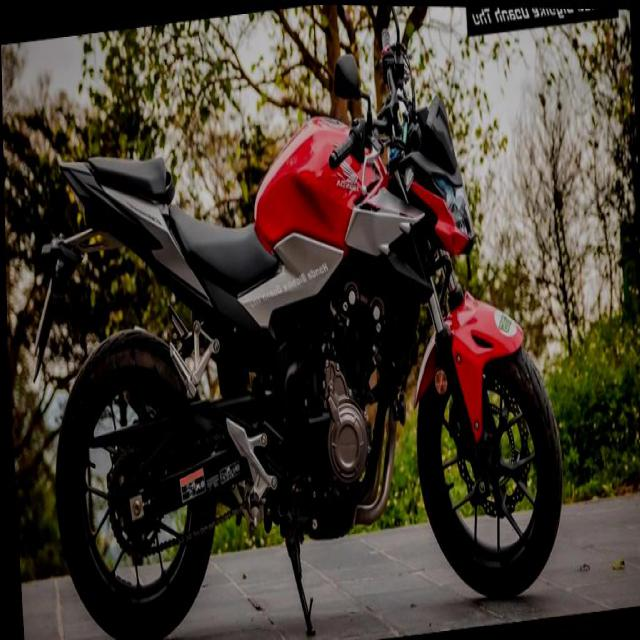CB500F: (31, 0, 568, 639)
